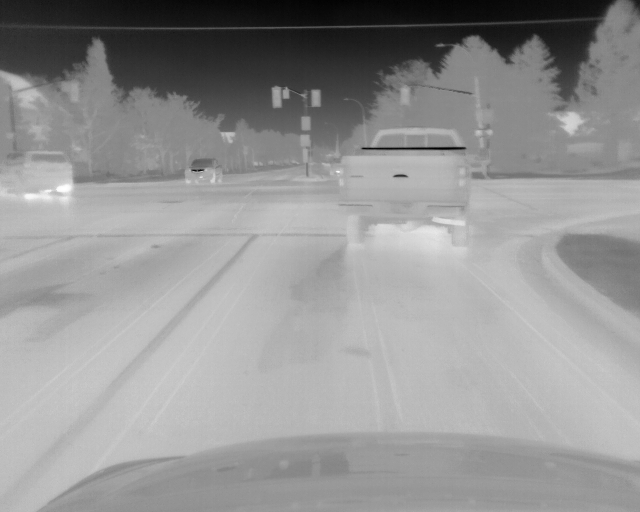car: (335, 126, 471, 249), (3, 148, 73, 200), (183, 158, 223, 187)
